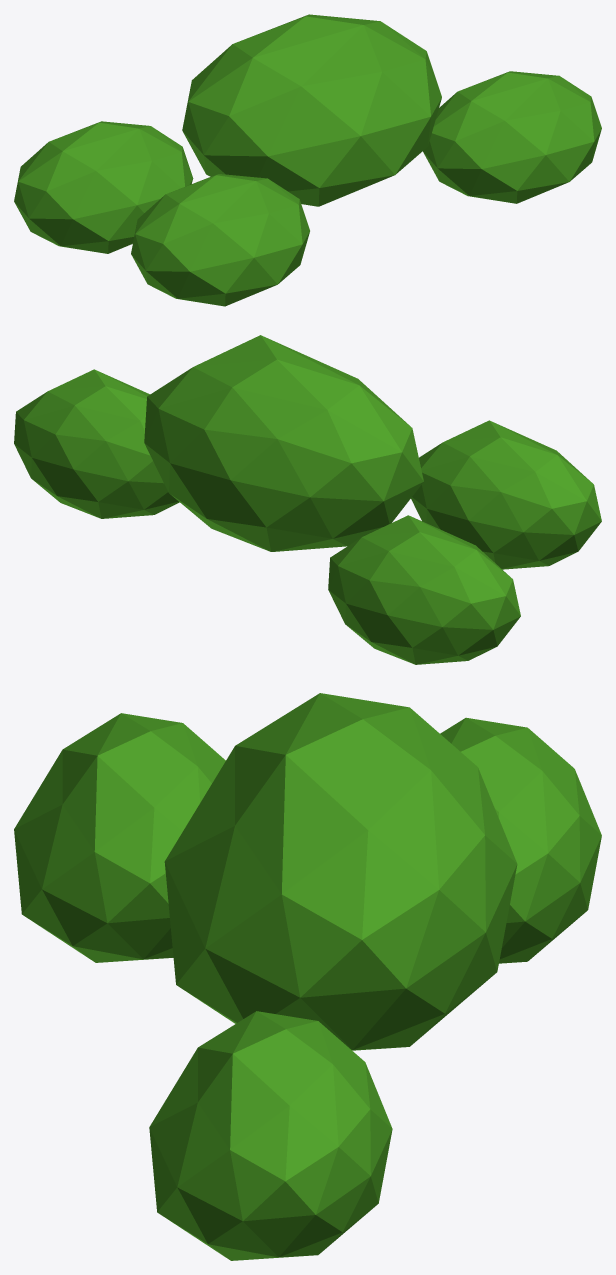
Rendered from buissonblend.dae.
3 views of the same model, one above another, from view 1: azimuth 30°, elevation 25°; view 2: azimuth 150°, elevation 25°; view 3: azimuth 270°, elevation 25° (orthographic). The views are drawn at different scales.
Visible parts, largest first — view 1: Icosphere, Icosphere.003, Icosphere.001, Icosphere.002; view 2: Icosphere, Icosphere.002, Icosphere.003, Icosphere.001; view 3: Icosphere, Icosphere.001, Icosphere.003, Icosphere.002.
Part boxes in pixels (bbox=[...]): Icosphere: bbox=[182, 14, 441, 206]; Icosphere.003: bbox=[131, 174, 309, 306]; Icosphere.001: bbox=[423, 71, 601, 203]; Icosphere.002: bbox=[14, 121, 193, 253]; Icosphere: bbox=[144, 335, 423, 551]; Icosphere.002: bbox=[328, 515, 520, 664]; Icosphere.003: bbox=[411, 420, 601, 569]; Icosphere.001: bbox=[14, 369, 179, 518]; Icosphere: bbox=[164, 693, 517, 1050]; Icosphere.001: bbox=[149, 1011, 392, 1260]; Icosphere.003: bbox=[14, 713, 225, 962]; Icosphere.002: bbox=[440, 717, 601, 963].
Bounding box in the file's own units: 1.95 × 1.07 × 0.7617.
